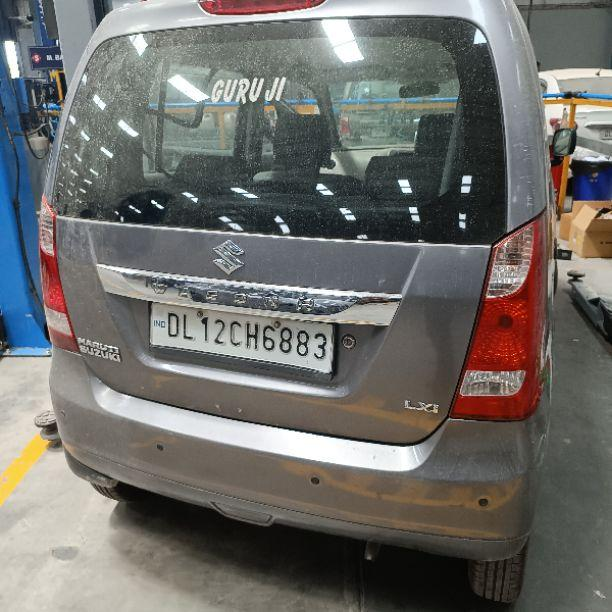license_plate: (147, 300, 336, 376)
